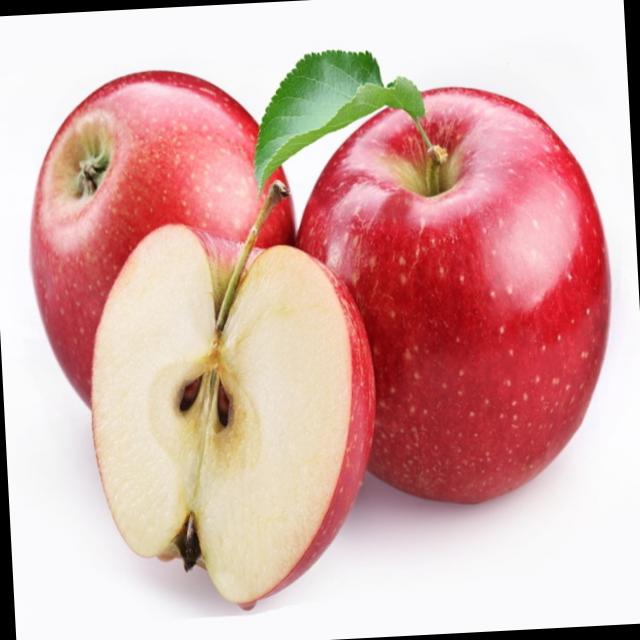apple: (278, 72, 626, 548), (23, 62, 324, 474)
